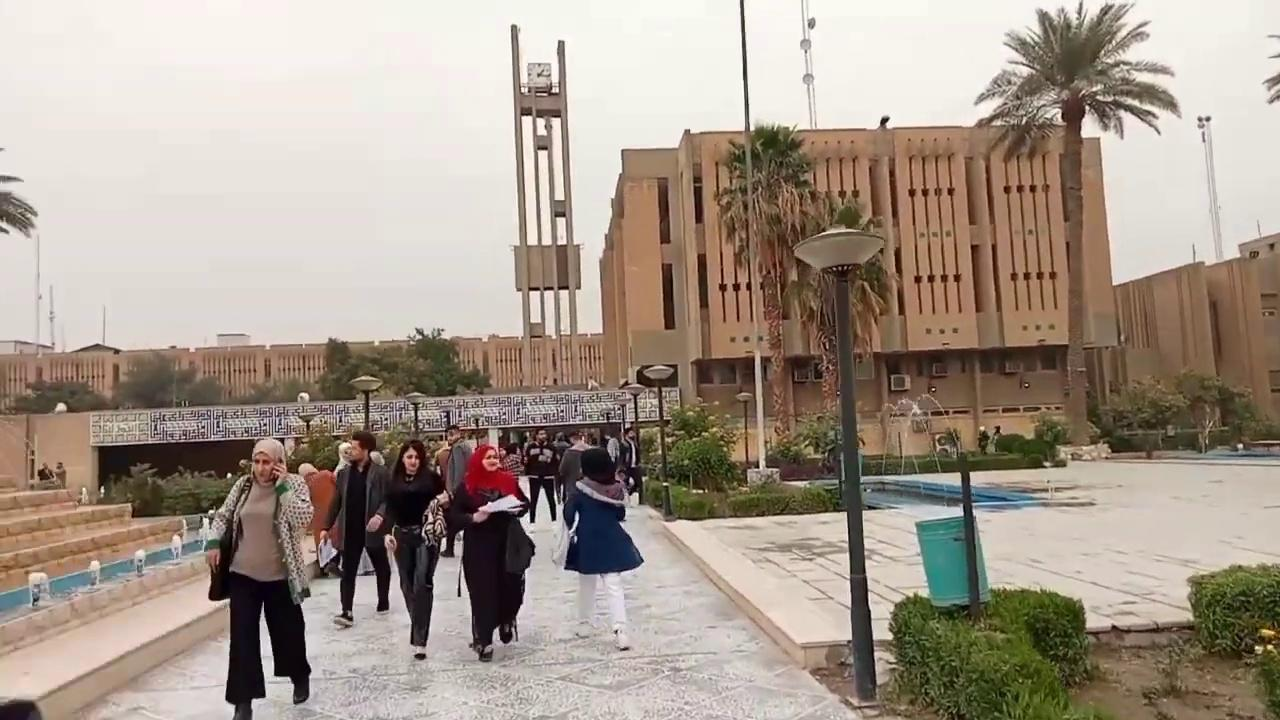fountain: (18, 512, 218, 611), (857, 474, 1094, 512), (26, 570, 51, 607)
person: (205, 437, 314, 719), (449, 444, 534, 661), (560, 447, 645, 650), (382, 439, 450, 660), (318, 430, 392, 627), (297, 462, 343, 578), (52, 461, 66, 487), (977, 426, 989, 454), (989, 425, 1001, 453), (37, 462, 55, 480)
tree: (972, 0, 1181, 446), (712, 121, 894, 463), (315, 325, 492, 400), (641, 398, 745, 492), (1102, 374, 1187, 456), (1172, 366, 1251, 452), (112, 350, 199, 408), (0, 146, 38, 238), (1029, 408, 1070, 463), (1261, 32, 1279, 105)
